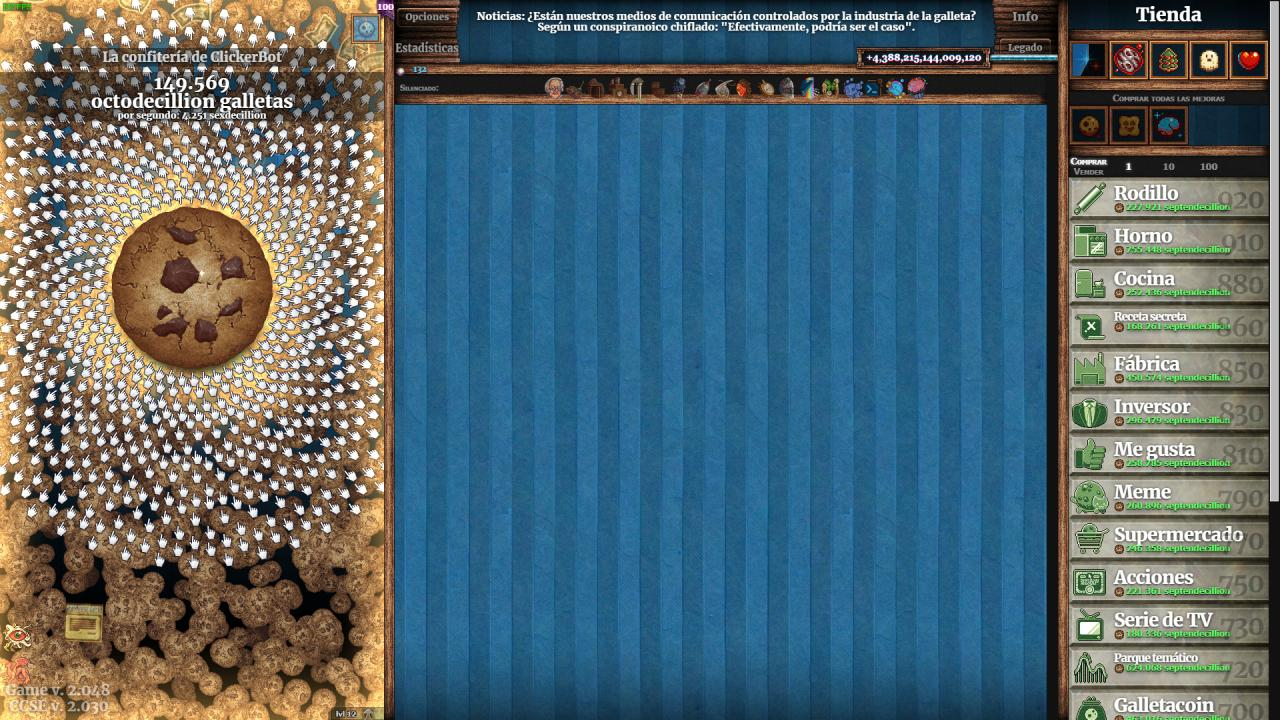GoldenCartridge: (63, 603, 105, 644)
